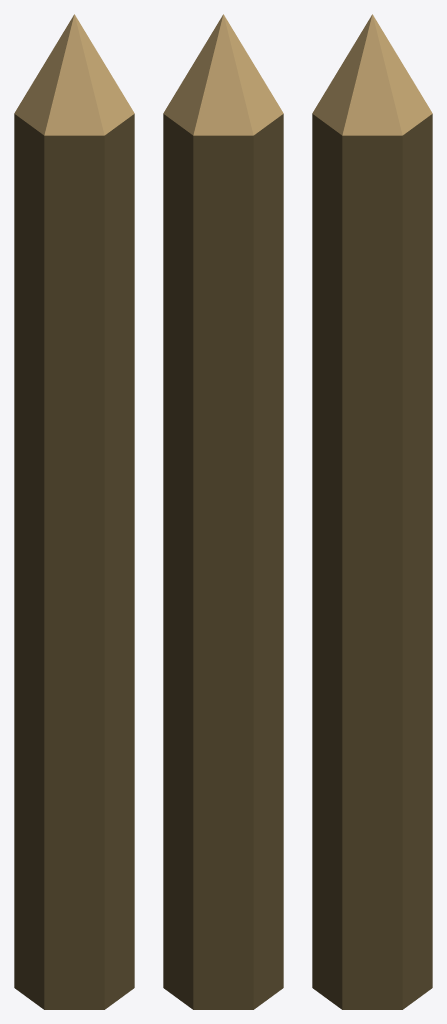
Rendered from palisade001 .fbx.
3 views of the same model, side by side, from view 1: azimuth 90°, elevation 25°; view 2: azimuth 150°, elevation 25°; view 3: azimuth 270°, elevation 25° (orthographic).
Visible parts, largest first — view 1: Цилиндр; view 2: Цилиндр; view 3: Цилиндр.
Part boxes in pixels (box(x1,y1,x2,y2)): Цилиндр: box(14, 14, 134, 1009); Цилиндр: box(163, 14, 283, 1009); Цилиндр: box(312, 14, 432, 1009).
Bounding box in the file's own units: 21.65 × 223 × 25.
